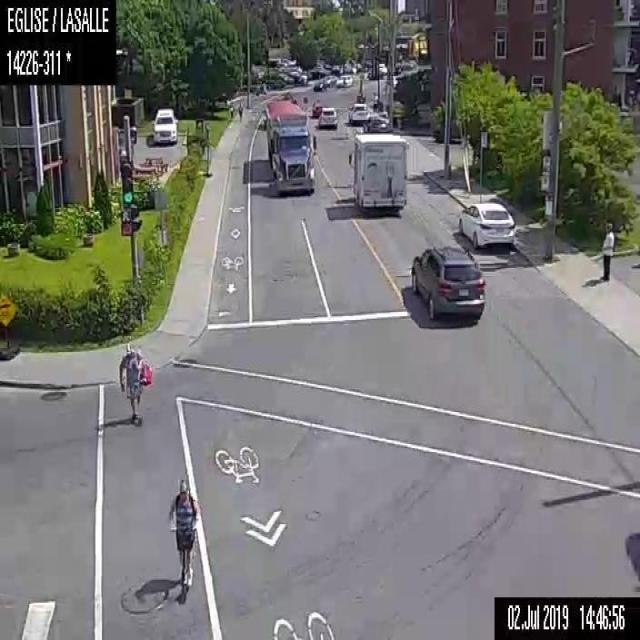pedestrian: (166, 476, 197, 604), (116, 344, 154, 427), (599, 222, 614, 282), (236, 100, 242, 121)
vehicle: (409, 243, 486, 324), (259, 91, 316, 193), (347, 128, 408, 213), (456, 200, 516, 252), (152, 107, 178, 144), (362, 112, 390, 132), (348, 100, 372, 123), (260, 71, 292, 88), (318, 104, 338, 128), (311, 73, 328, 91), (335, 72, 351, 87), (310, 100, 324, 116)
